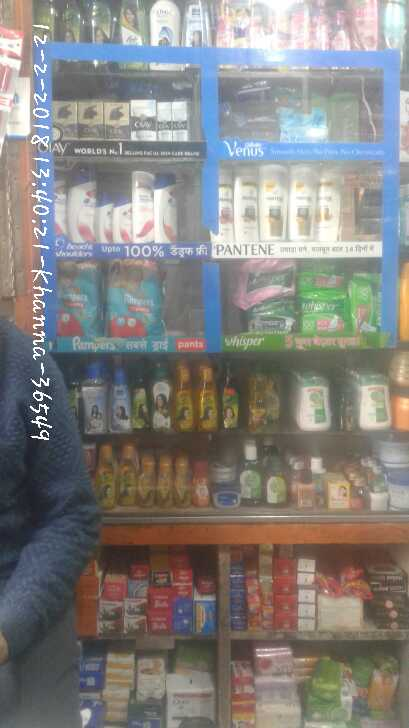venus: (280, 104, 331, 141)
